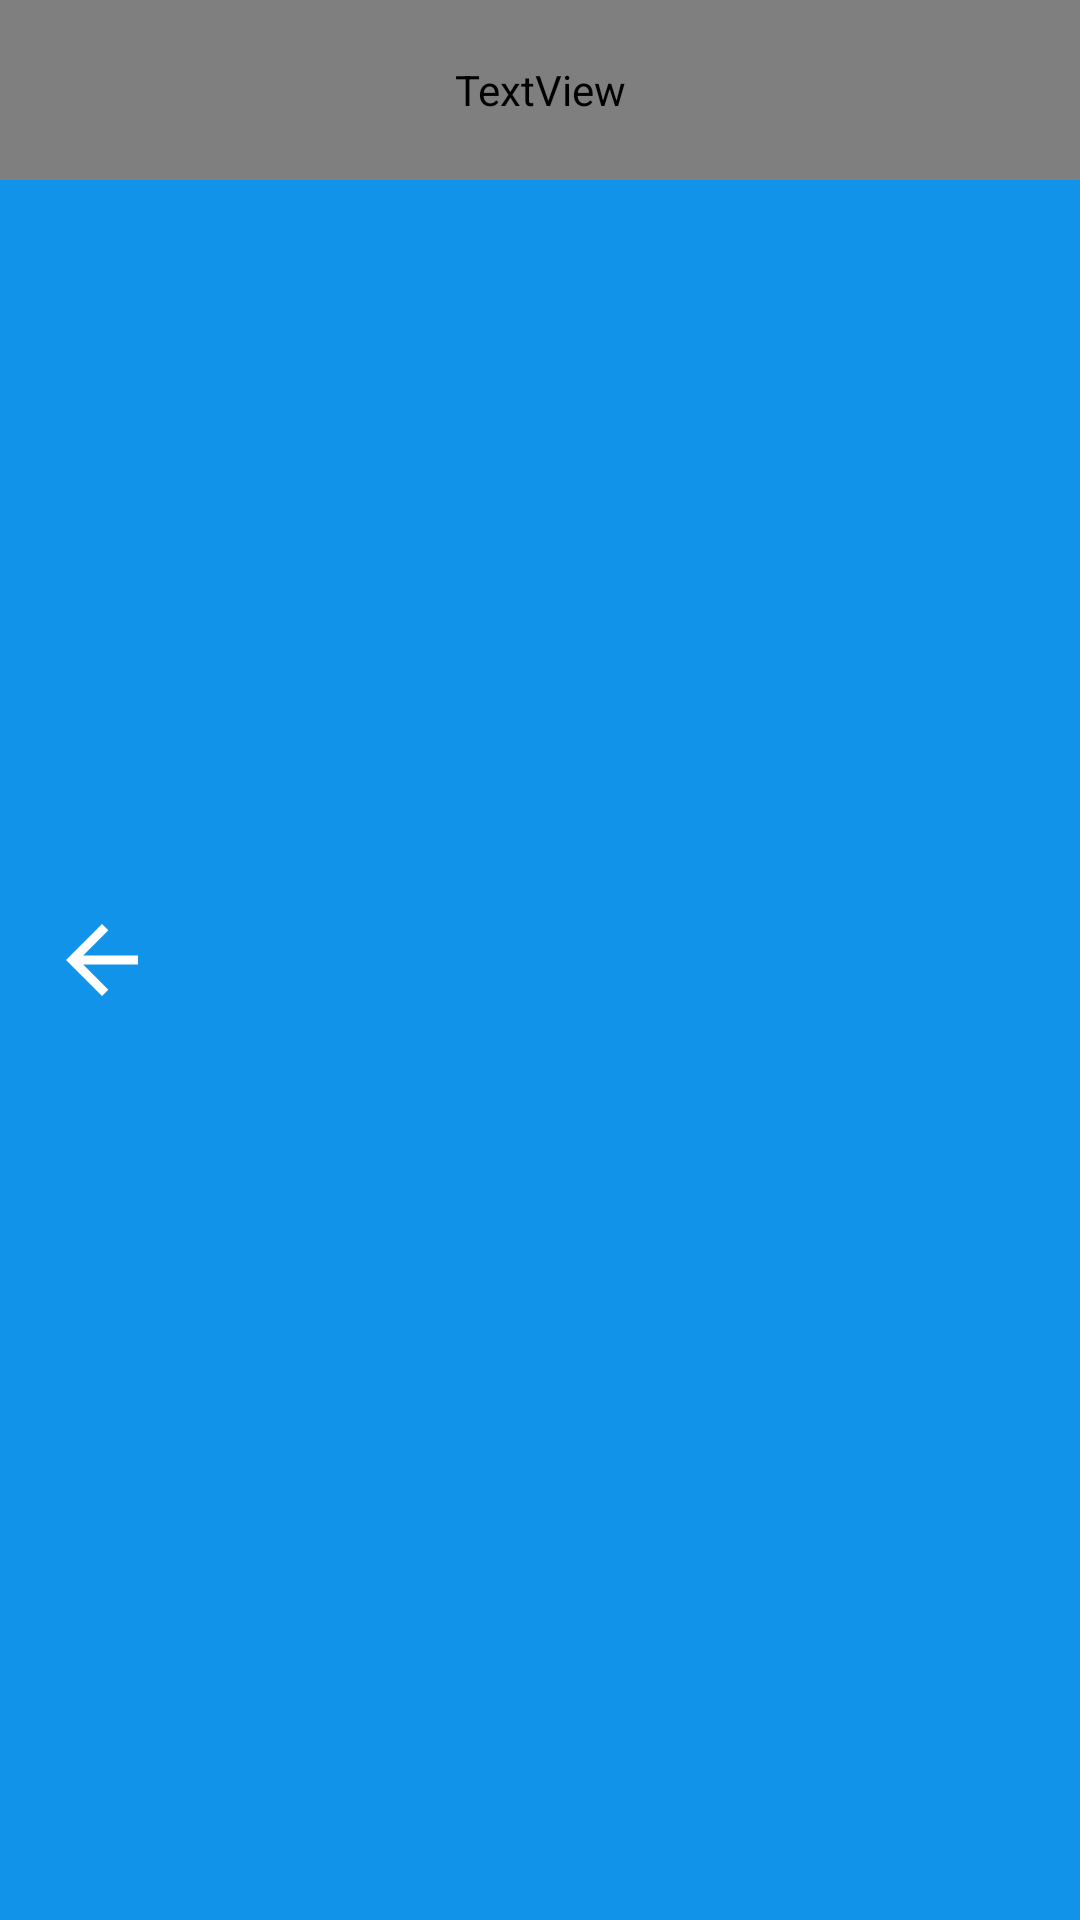

Where to tap for icons on this 1080x1920 app screen, as (x,y):
arrow back: (102,960)
